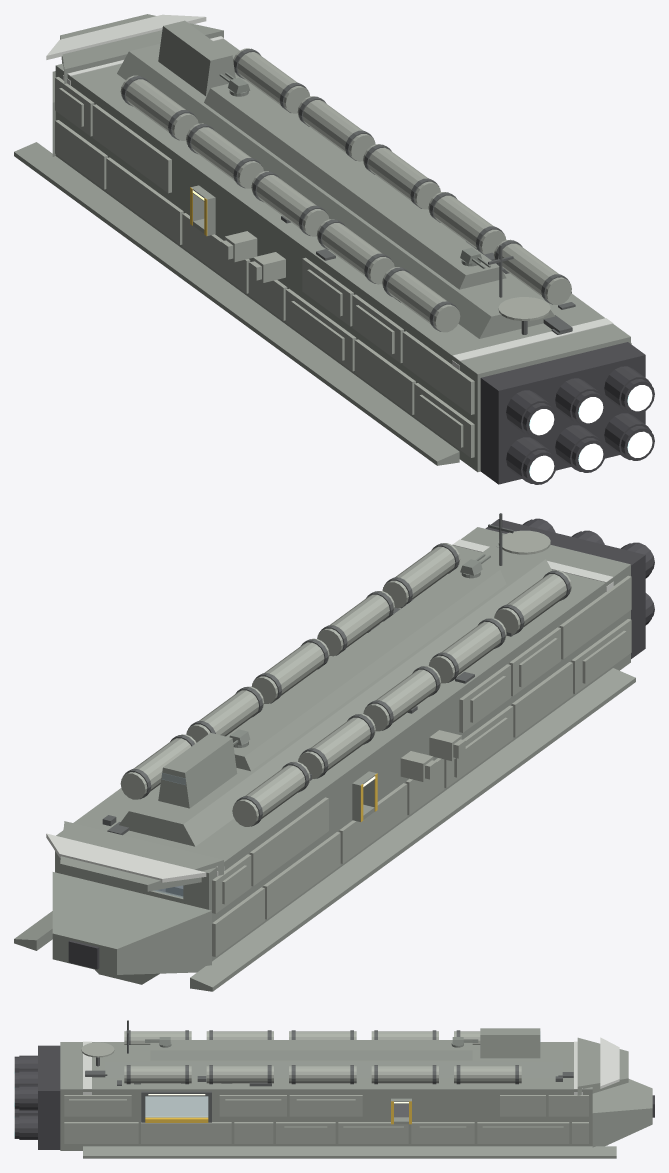
Rendered from ship_SMALL_SUPPORT.glb.
3 views of the same model, one above another, from view 1: azimuth 30°, elevation 25°; view 2: azimuth 150°, elevation 25°; view 3: azimuth 270°, elevation 25° (orthographic). The views are drawn at different scales.
Visible parts, largest first — view 1: SMALL_SUPPORT_Hull-col, SMALL_SUPPORT_Armor, SMALL_SUPPORT_Engines, SMALL_SUPPORT_Trim, SMALL_SUPPORT_Accent, SMALL_SUPPORT_EngineGlow, SMALL_SUPPORT_Details, SMALL_SUPPORT_EscapePod_1, SMALL_SUPPORT_EscapePod_2; view 2: SMALL_SUPPORT_Hull-col, SMALL_SUPPORT_Armor, SMALL_SUPPORT_Engines, SMALL_SUPPORT_Trim, SMALL_SUPPORT_Accent, SMALL_SUPPORT_EscapePod_2, SMALL_SUPPORT_EscapePod_1, SMALL_SUPPORT_Details; view 3: SMALL_SUPPORT_Hull-col, SMALL_SUPPORT_Armor, SMALL_SUPPORT_Engines, SMALL_SUPPORT_Trim, SMALL_SUPPORT_Accent, SMALL_SUPPORT_CargoBayShield, SMALL_SUPPORT_CargoBayDoor-col, SMALL_SUPPORT_Details, SMALL_SUPPORT_Hazard.
Part boxes in pixels (<box>): SMALL_SUPPORT_Hull-col: <box>14,14,630,472</box>; SMALL_SUPPORT_Armor: <box>55,48,631,457</box>; SMALL_SUPPORT_Engines: <box>480,342,654,484</box>; SMALL_SUPPORT_Trim: <box>121,48,571,334</box>; SMALL_SUPPORT_Accent: <box>46,14,613,370</box>; SMALL_SUPPORT_EngineGlow: <box>529,385,652,481</box>; SMALL_SUPPORT_Details: <box>281,216,575,334</box>; SMALL_SUPPORT_EscapePod_1: <box>249,252,285,282</box>; SMALL_SUPPORT_EscapePod_2: <box>221,231,257,261</box>; SMALL_SUPPORT_Hull-col: <box>14,527,635,991</box>; SMALL_SUPPORT_Armor: <box>55,530,631,956</box>; SMALL_SUPPORT_Engines: <box>68,518,654,969</box>; SMALL_SUPPORT_Trim: <box>123,543,570,826</box>; SMALL_SUPPORT_Accent: <box>46,539,613,882</box>; SMALL_SUPPORT_EscapePod_2: <box>400,751,436,781</box>; SMALL_SUPPORT_EscapePod_1: <box>429,730,465,760</box>; SMALL_SUPPORT_Details: <box>102,513,513,835</box>; SMALL_SUPPORT_Hull-col: <box>60,1028,652,1158</box>; SMALL_SUPPORT_Armor: <box>64,1031,588,1143</box>; SMALL_SUPPORT_Engines: <box>14,1045,654,1149</box>; SMALL_SUPPORT_Trim: <box>96,1030,518,1122</box>; SMALL_SUPPORT_Accent: <box>83,1037,619,1094</box>; SMALL_SUPPORT_CargoBayShield: <box>145,1096,208,1116</box>; SMALL_SUPPORT_CargoBayDoor-col: <box>145,1096,208,1116</box>; SMALL_SUPPORT_Details: <box>85,1020,573,1086</box>; SMALL_SUPPORT_Hazard: <box>145,1101,411,1124</box>.
Size of the model in its own units: 19.8 by 17.4 by 85.5.
